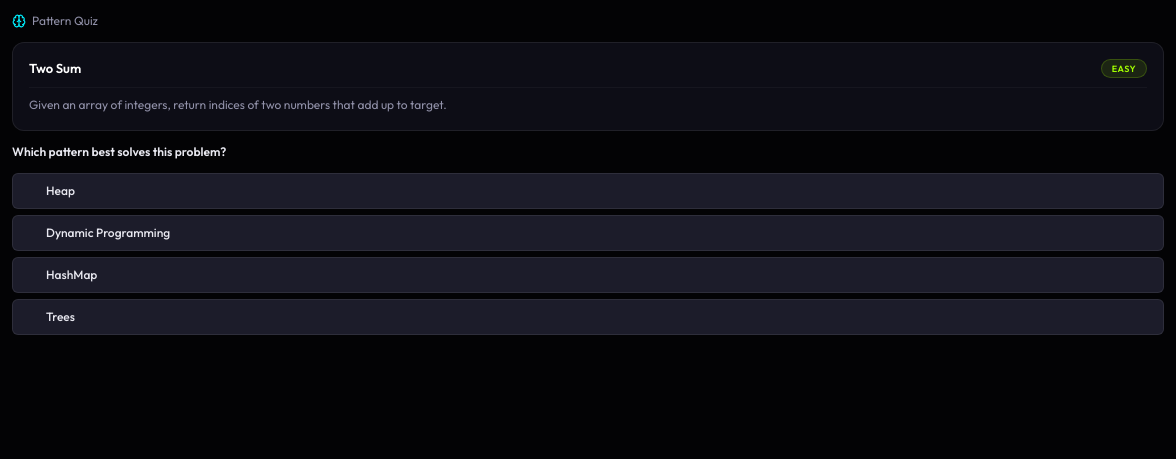
Test: PatternQuizPanel › answering wrong › clicking wrong answer shows "Not quite" feedback
This screenshot has width=1176, height=459.
Click the button "Heap". click: (60, 190)
box: [12,172,1164,208]
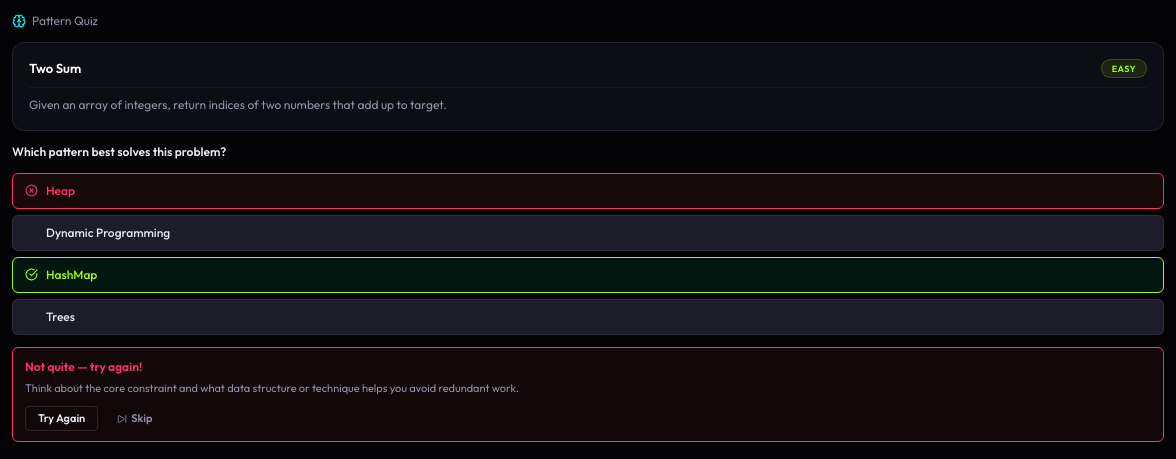
Expected: the text "Not quite — try again!" is shown, [25,358,142,374]
